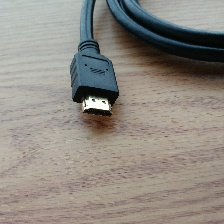hdmi_male: (59, 44, 124, 116)
